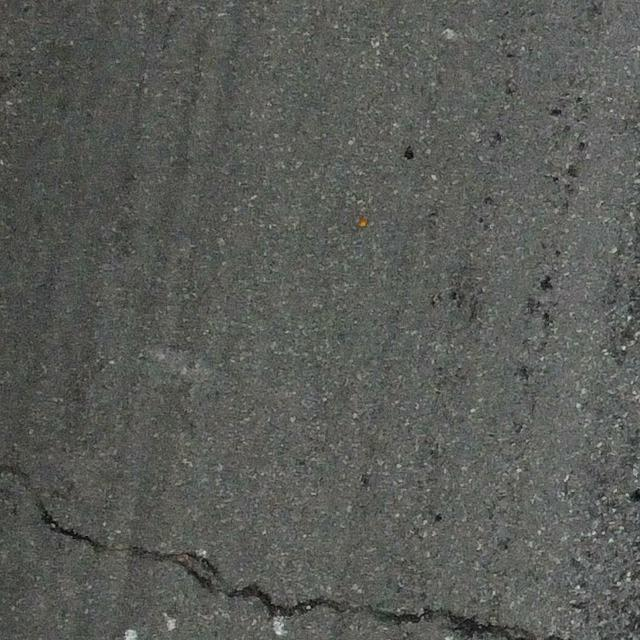TransverseCrack: (1, 464, 557, 640)
